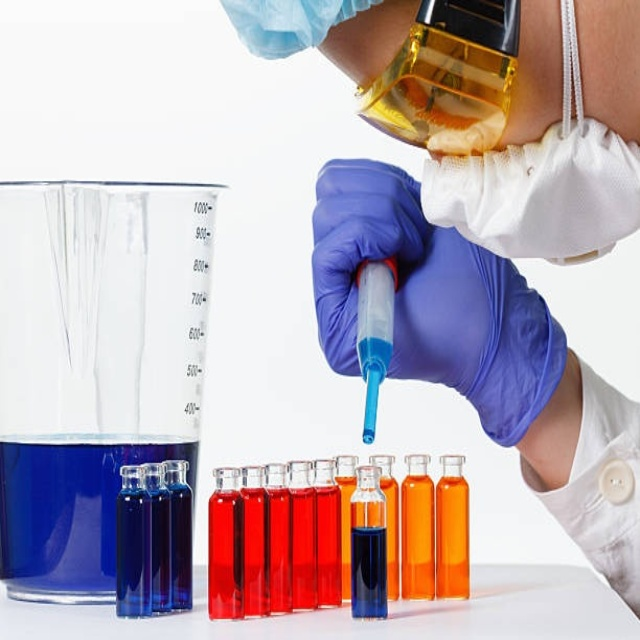Gafas: (350, 2, 525, 154)
Guantes: (313, 154, 565, 445)
Mascara: (419, 2, 636, 266)
